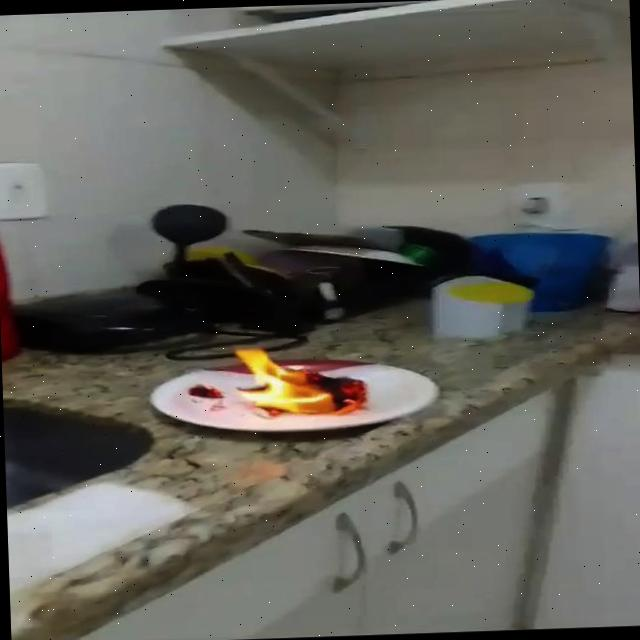fire: (228, 343, 369, 424)
